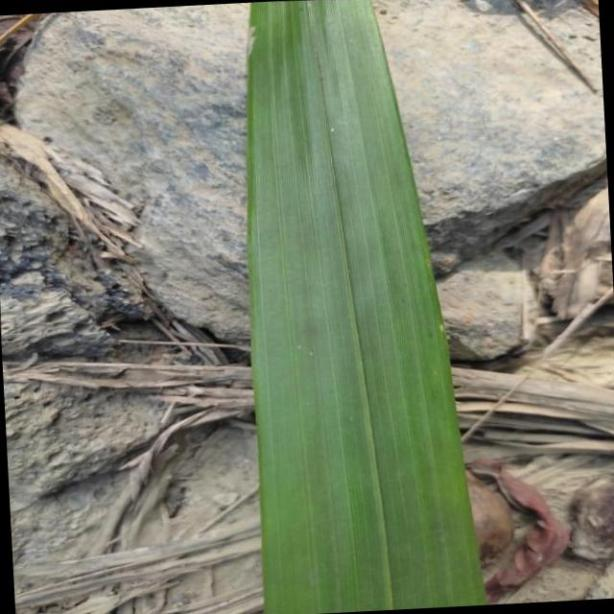Healthy: (245, 5, 484, 614)
